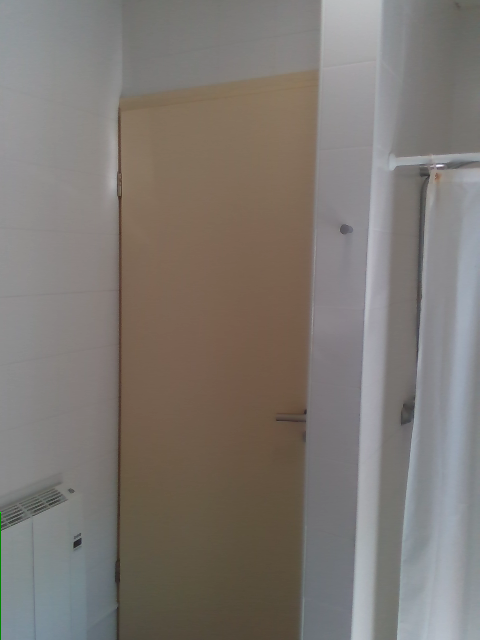closed: (116, 69, 317, 636)
